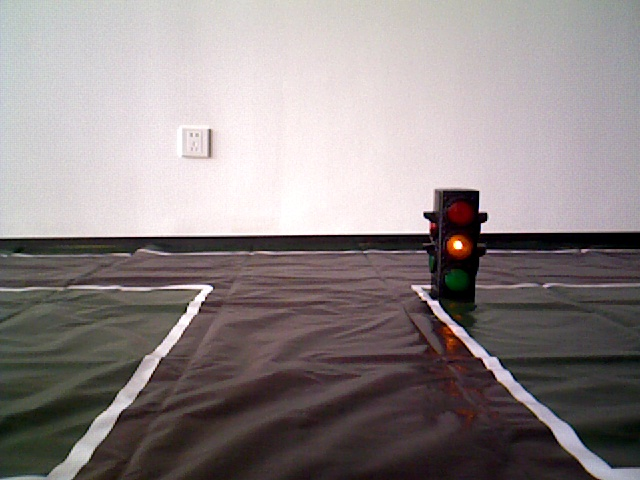yellow: (431, 191, 479, 297)
